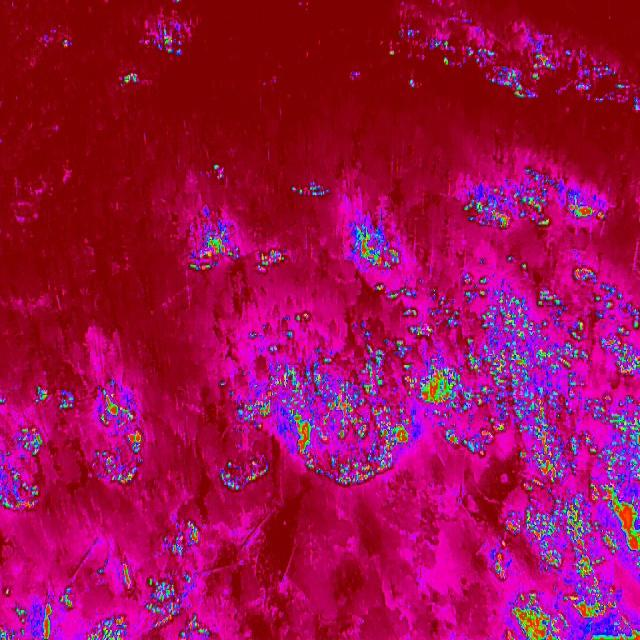fire: (222, 252, 640, 502), (361, 15, 640, 116), (2, 517, 215, 640), (484, 485, 640, 640), (0, 385, 142, 515), (460, 174, 610, 234), (175, 211, 290, 284), (347, 212, 399, 272), (152, 16, 187, 59), (289, 176, 334, 202), (203, 156, 232, 182), (118, 68, 142, 90), (60, 36, 74, 52)
